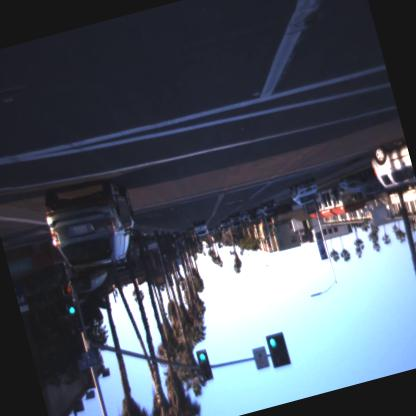trafficlight: (264, 330, 292, 369), (64, 300, 84, 336), (195, 349, 213, 382)
